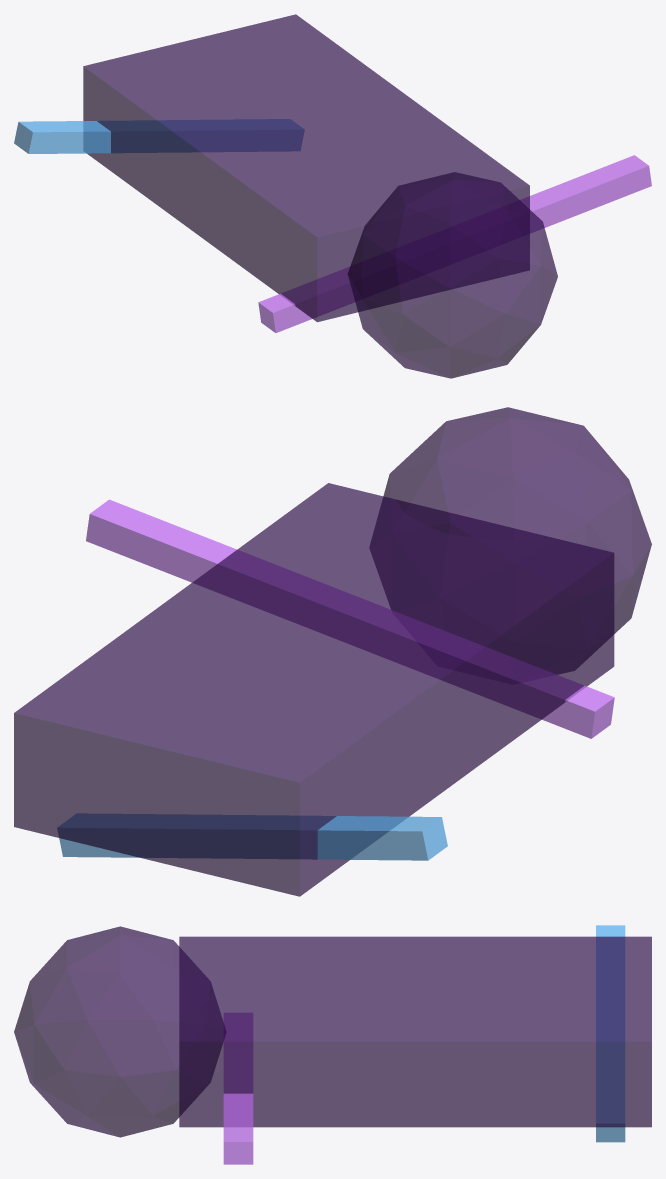
The model's file is vfx_phase_shift_afterimage.glb.
The picture shows the model from 3 angles, top to bottom: view 1: azimuth 30°, elevation 25°; view 2: azimuth 150°, elevation 25°; view 3: azimuth 270°, elevation 25°; orthographic projection. The views are drawn at different scales.
Visible parts, largest first — view 1: torso, head, glitch_2, glitch_1; view 2: torso, head, glitch_1, glitch_2; view 3: torso, head, glitch_2, glitch_1.
Boxes of the visible parts, <box> form: torso: <box>83,14,529,322</box>; head: <box>347,172,557,378</box>; glitch_2: <box>14,119,304,153</box>; glitch_1: <box>258,155,651,332</box>; torso: <box>14,483,614,896</box>; head: <box>370,407,651,674</box>; glitch_1: <box>86,499,614,738</box>; glitch_2: <box>57,813,447,860</box>; torso: <box>179,936,651,1127</box>; head: <box>14,926,225,1137</box>; glitch_2: <box>596,925,625,1142</box>; glitch_1: <box>223,1013,253,1164</box>.
Bounding box in the file's own units: 0.8669 × 0.36 × 1.08.
